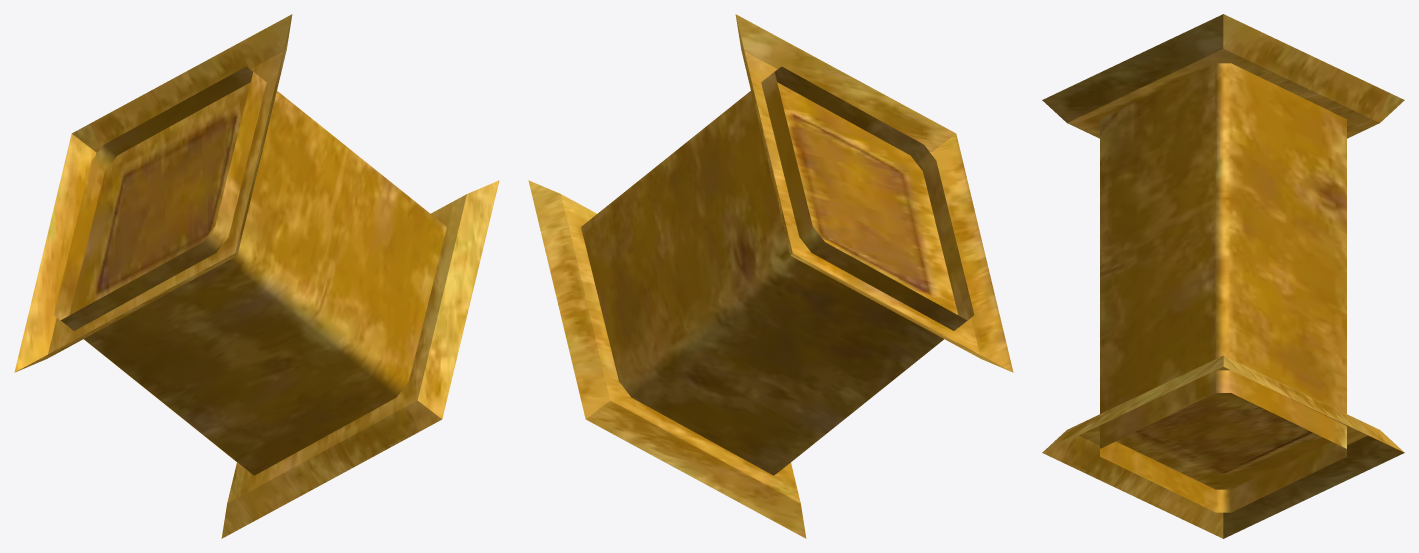
3 renders of one model, left to right at view 1: azimuth 30°, elevation 25°; view 2: azimuth 150°, elevation 25°; view 3: azimuth 270°, elevation 25°, orthographic. The views are drawn at different scales.
Visible parts, largest first — view 1: SM_Dragonkin_Pipe_Diagonal_03_v1_LOD0; view 2: SM_Dragonkin_Pipe_Diagonal_03_v1_LOD0; view 3: SM_Dragonkin_Pipe_Diagonal_03_v1_LOD0.
Boxes of the visible parts, x1=… form: SM_Dragonkin_Pipe_Diagonal_03_v1_LOD0: x1=14, y1=14, x2=499, y2=538; SM_Dragonkin_Pipe_Diagonal_03_v1_LOD0: x1=528, y1=14, x2=1013, y2=538; SM_Dragonkin_Pipe_Diagonal_03_v1_LOD0: x1=1042, y1=14, x2=1404, y2=538.
Bounding box in the file's own units: 1.17 × 1.17 × 0.6837.
1 material, 1 textured.
